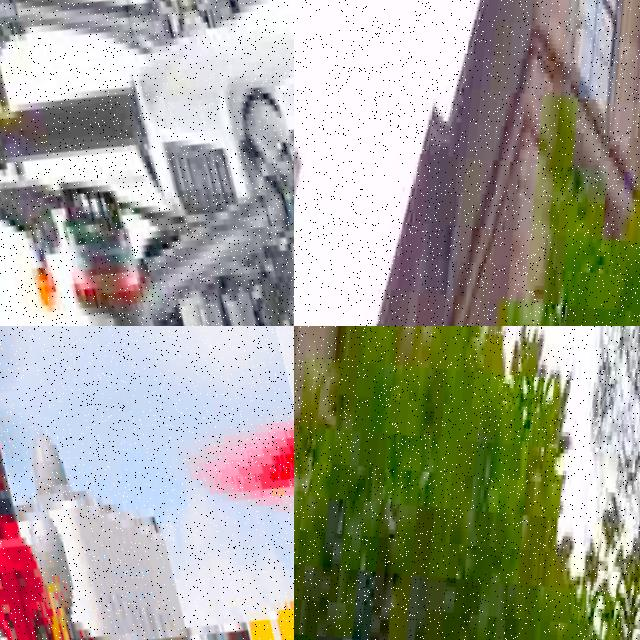drone: (0, 0, 294, 326), (0, 326, 294, 640)
